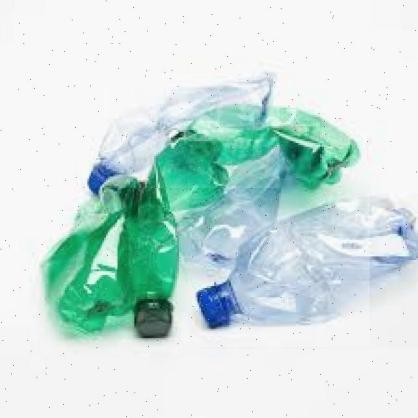bottle: (117, 99, 371, 346), (198, 193, 418, 349), (80, 74, 280, 188)
cap: (192, 285, 234, 330), (132, 300, 172, 339)
